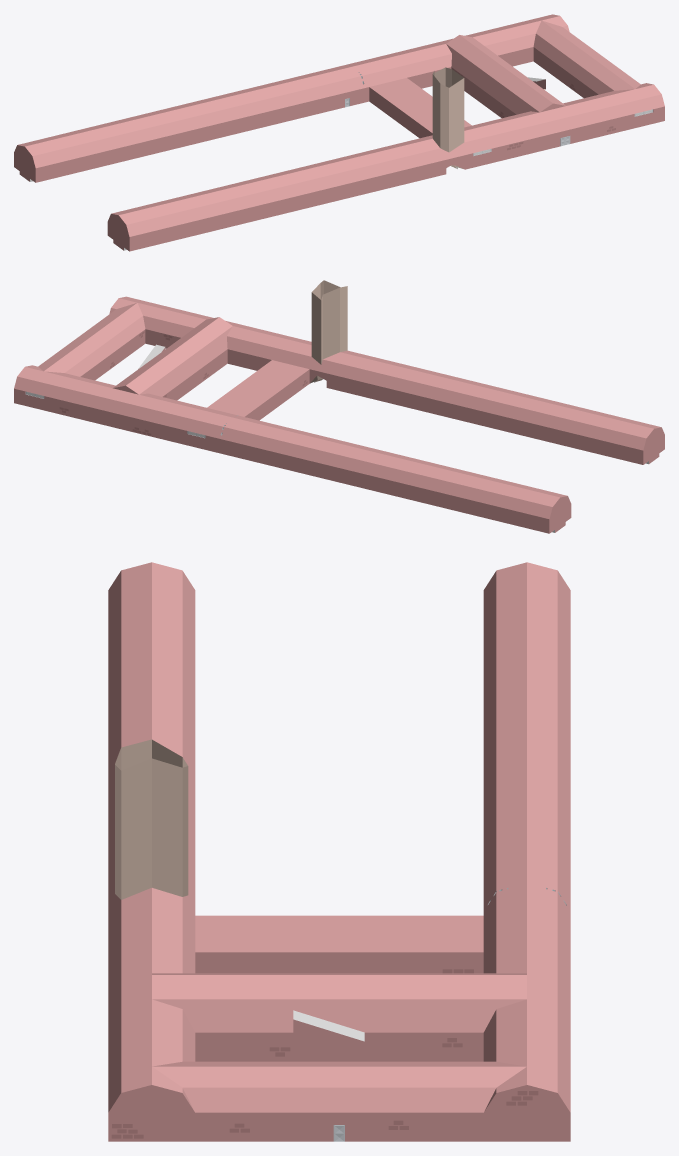
The model's file is Sewers.fbx.
The picture shows the model from 3 angles, top to bottom: view 1: azimuth 30°, elevation 25°; view 2: azimuth 150°, elevation 25°; view 3: azimuth 270°, elevation 25°; orthographic projection. The views are drawn at different scales.
Visible parts, largest first — view 1: Sewers; view 2: Sewers; view 3: Sewers.
Part boxes in pixels (<box>): Sewers: <box>14,14,664,251</box>; Sewers: <box>14,280,664,533</box>; Sewers: <box>108,562,570,1141</box>.
Bounding box in the file's own units: 163 × 28.5 × 61.03.
